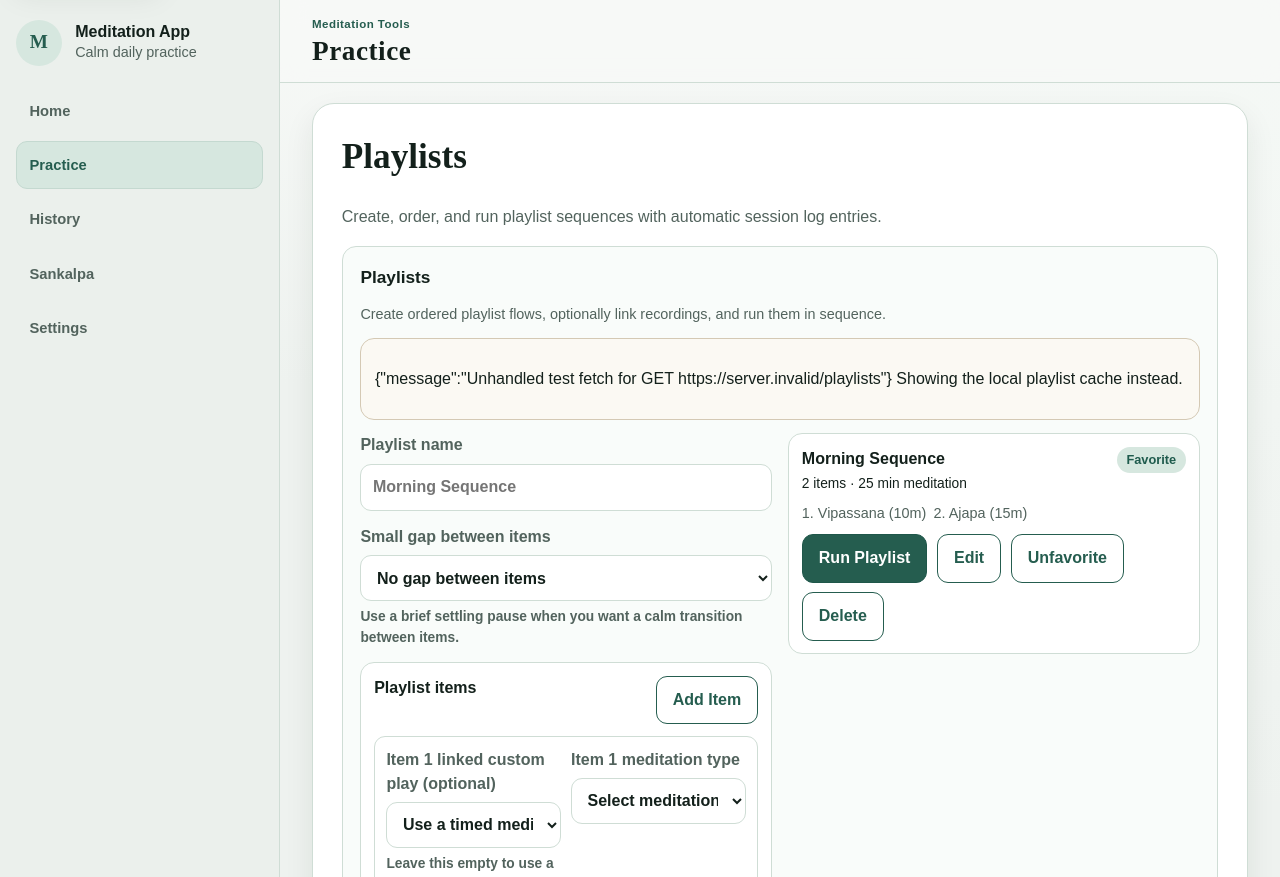
Test: PlaylistsPage UX › shows truthful delete failure guidance when backend deletion fails
expect the 1st heading "Playlists" is shown: met, box [342,137,467,176]
Step 1. Click the button "Delete" → (843, 616), box [802,592,884,641]
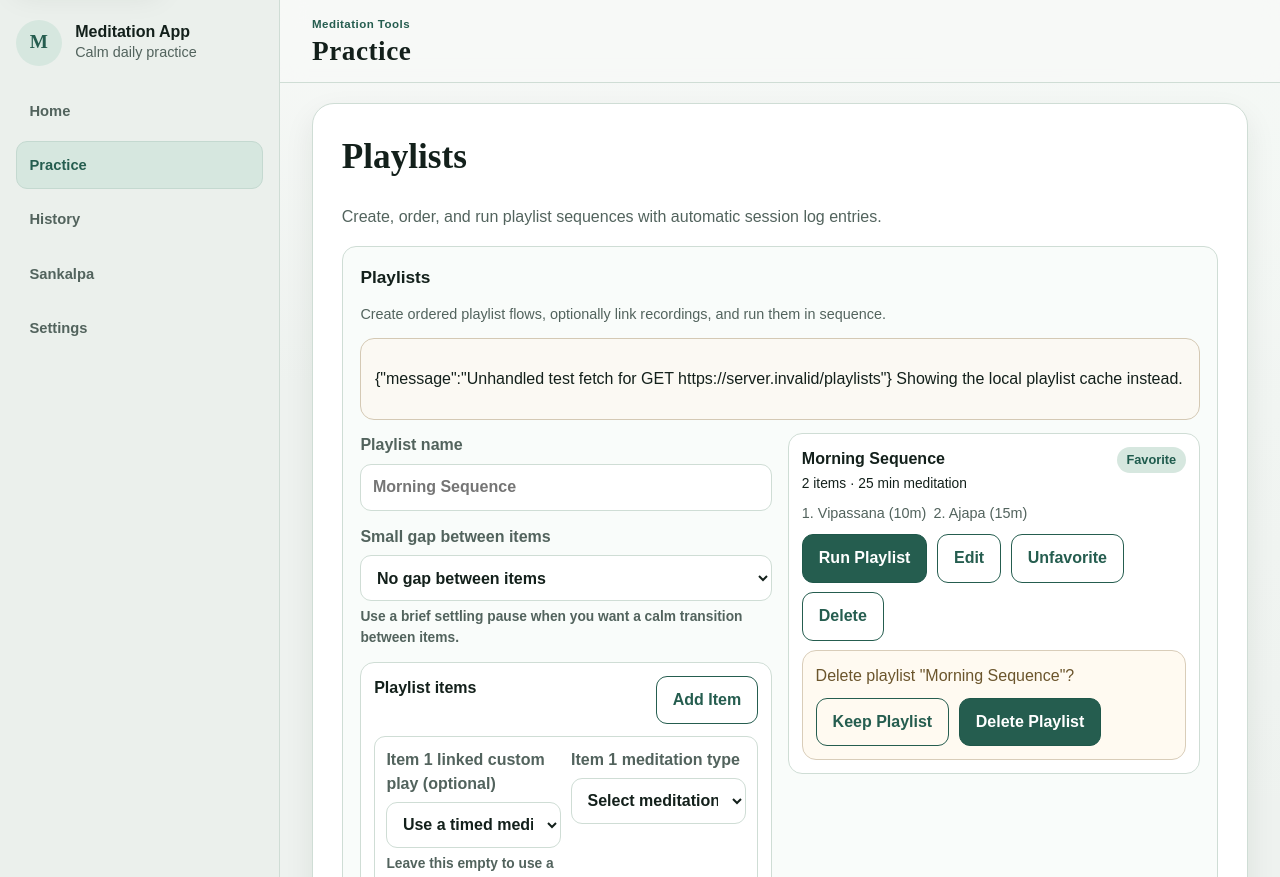
Step 2. Click the button "Delete Playlist" → (1030, 722), box [959,698,1101,746]
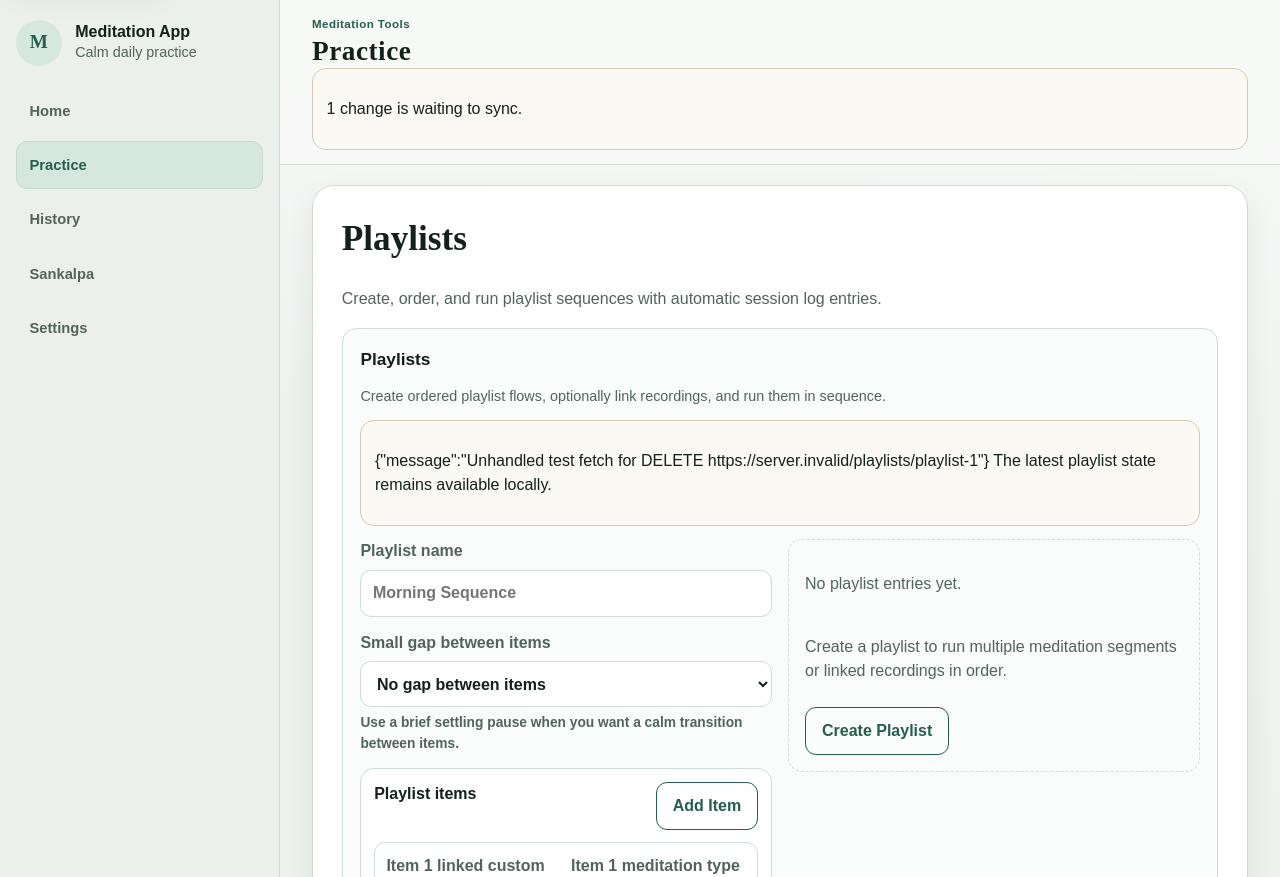
expect the text "latest playlist state remains available locally" is shown: met, box [375,452,1156,493]
